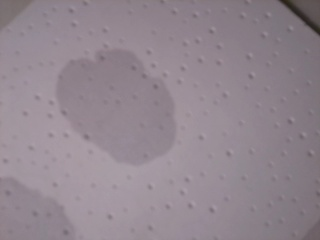Water_detected: (60, 57, 158, 153), (4, 191, 65, 240)
